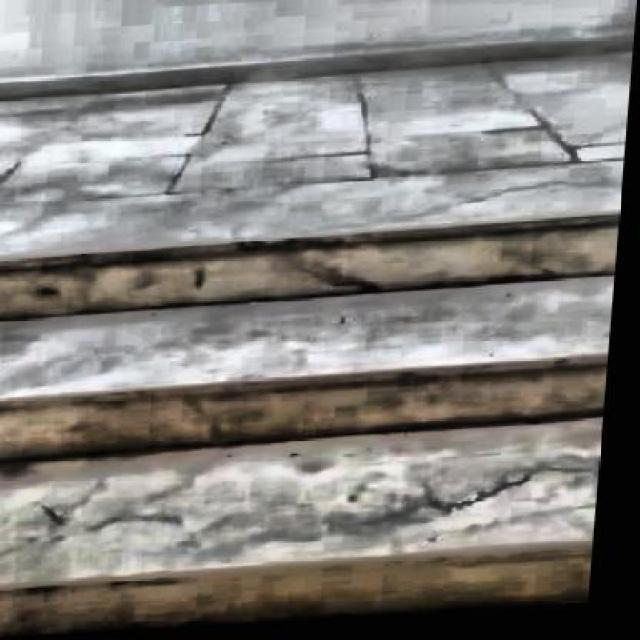stair: (0, 223, 622, 639)
